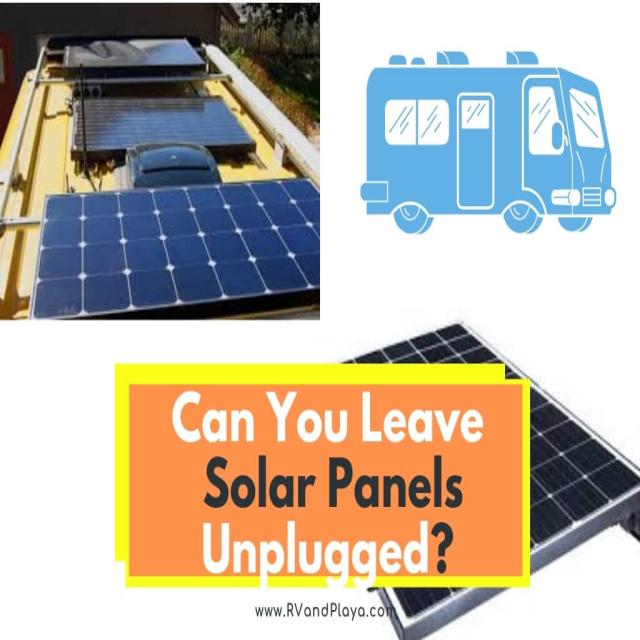clean-solar-panel: (31, 180, 319, 319)
